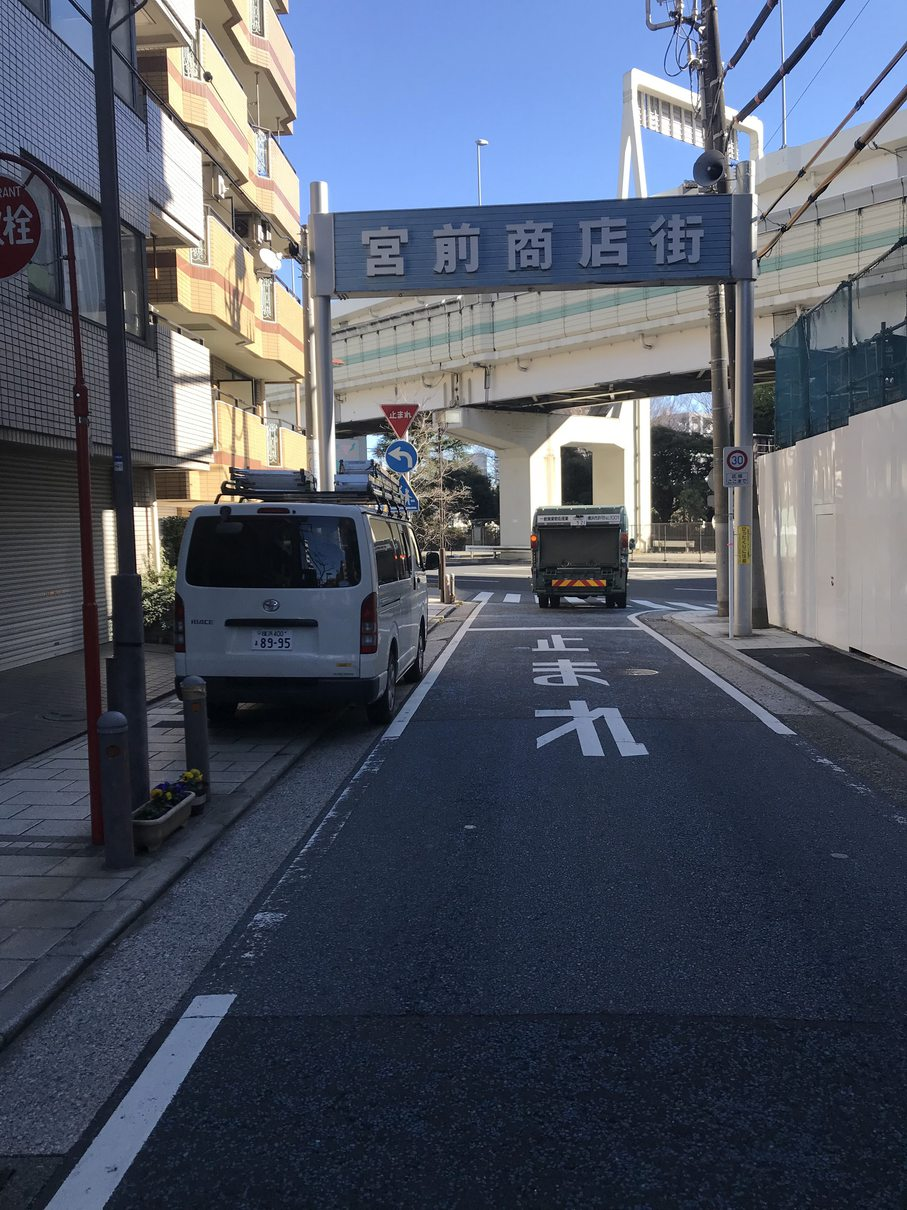stop_sign: (379, 403, 420, 439)
